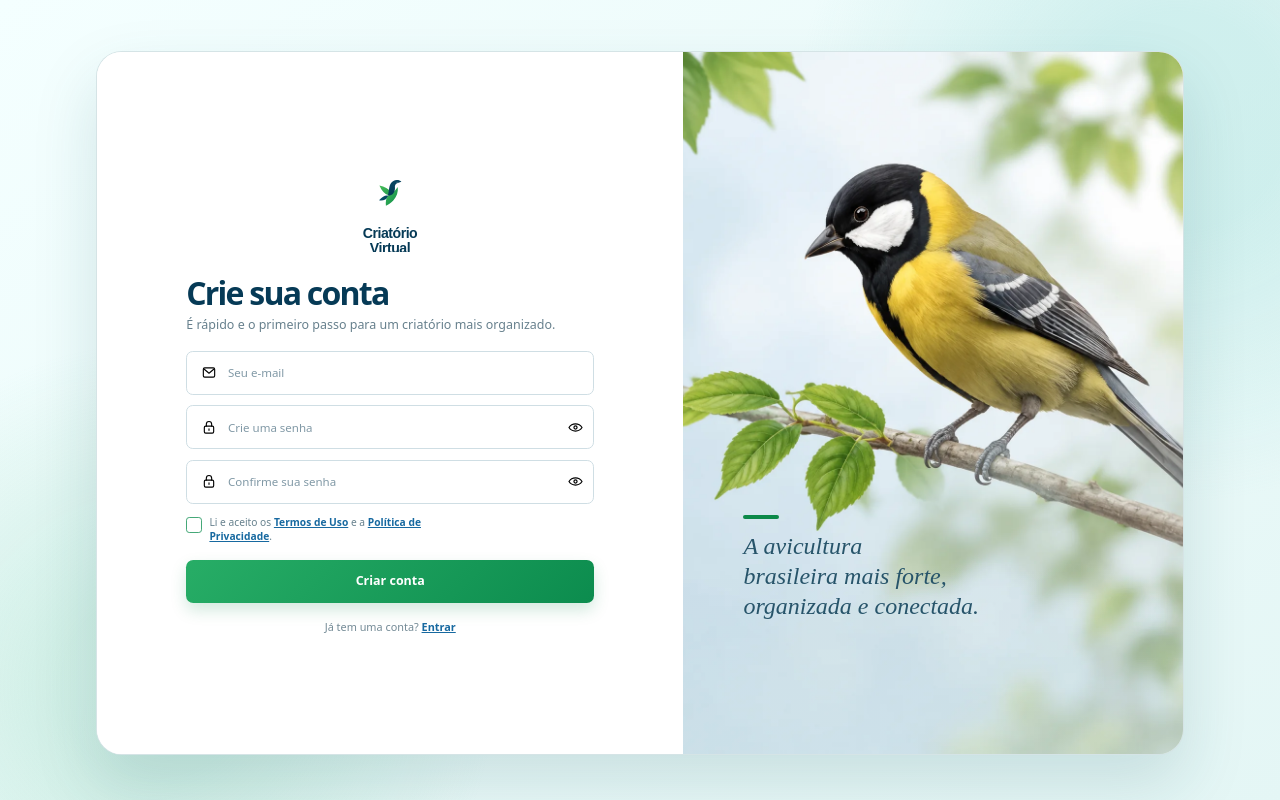
it: RegistrationPage › registers with the API contract and shows the confirmation navigation
The width and height of the screenshot is (1280, 800).
In the field labelled "e-mail": (390, 373) [186,351,594,395], type " owner@example.com "
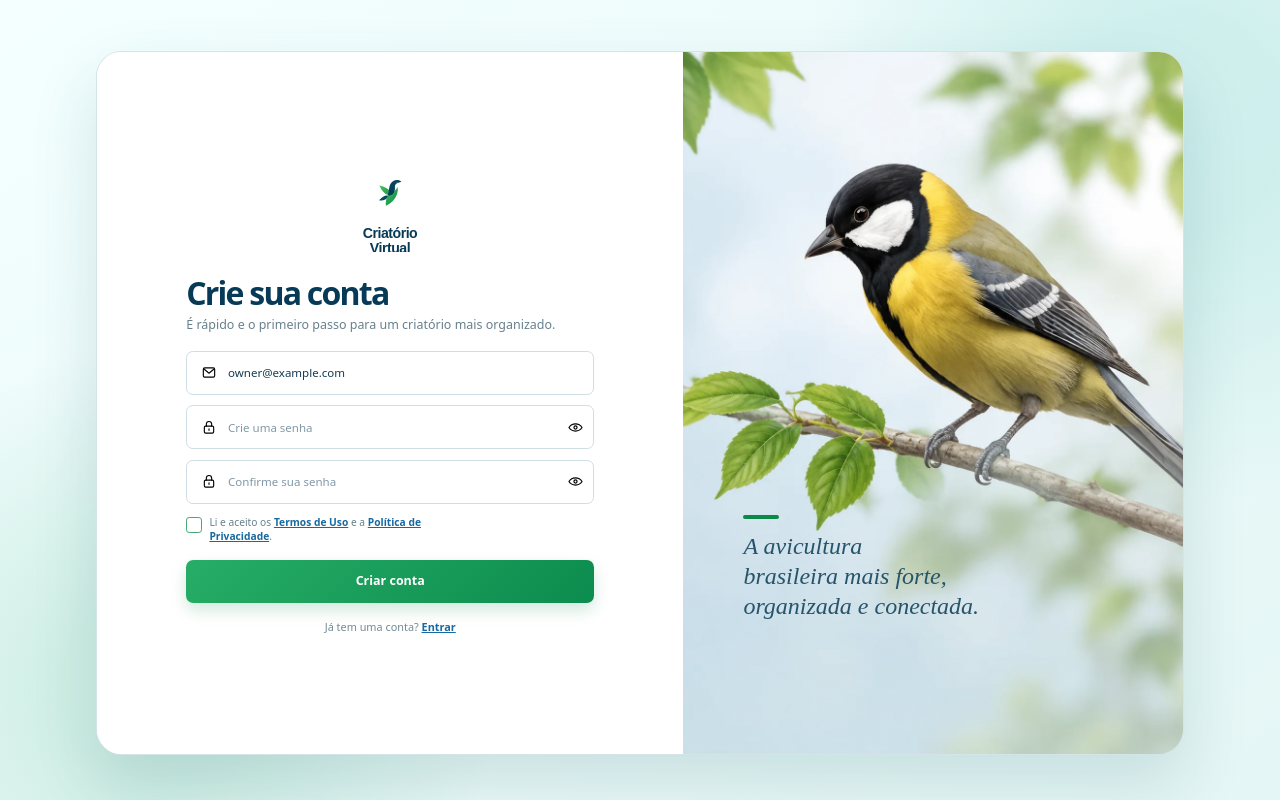
In the password field labelled "senha": (390, 427) [186,405,594,449], type "StrongPassword!123"
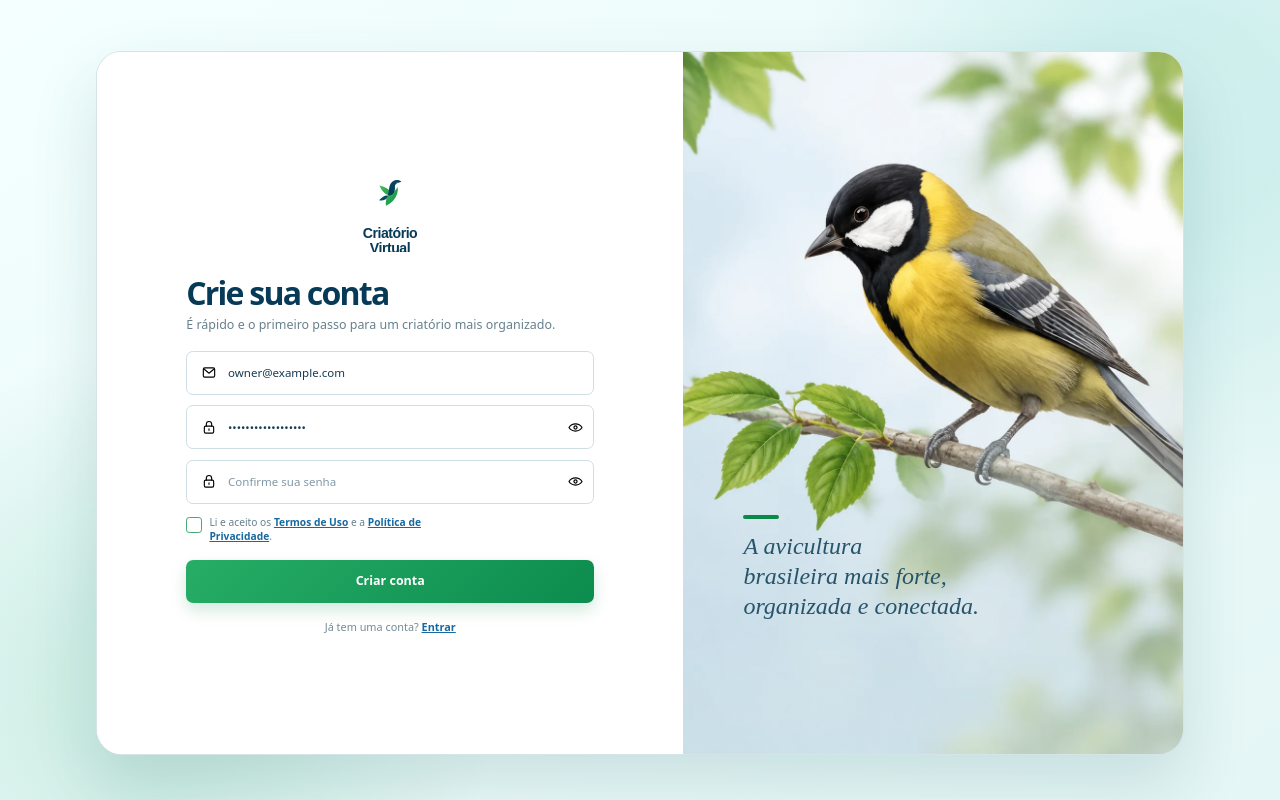
In the password field named "Confirmar senha": (390, 482) [186,460,594,504], type "StrongPassword!123"
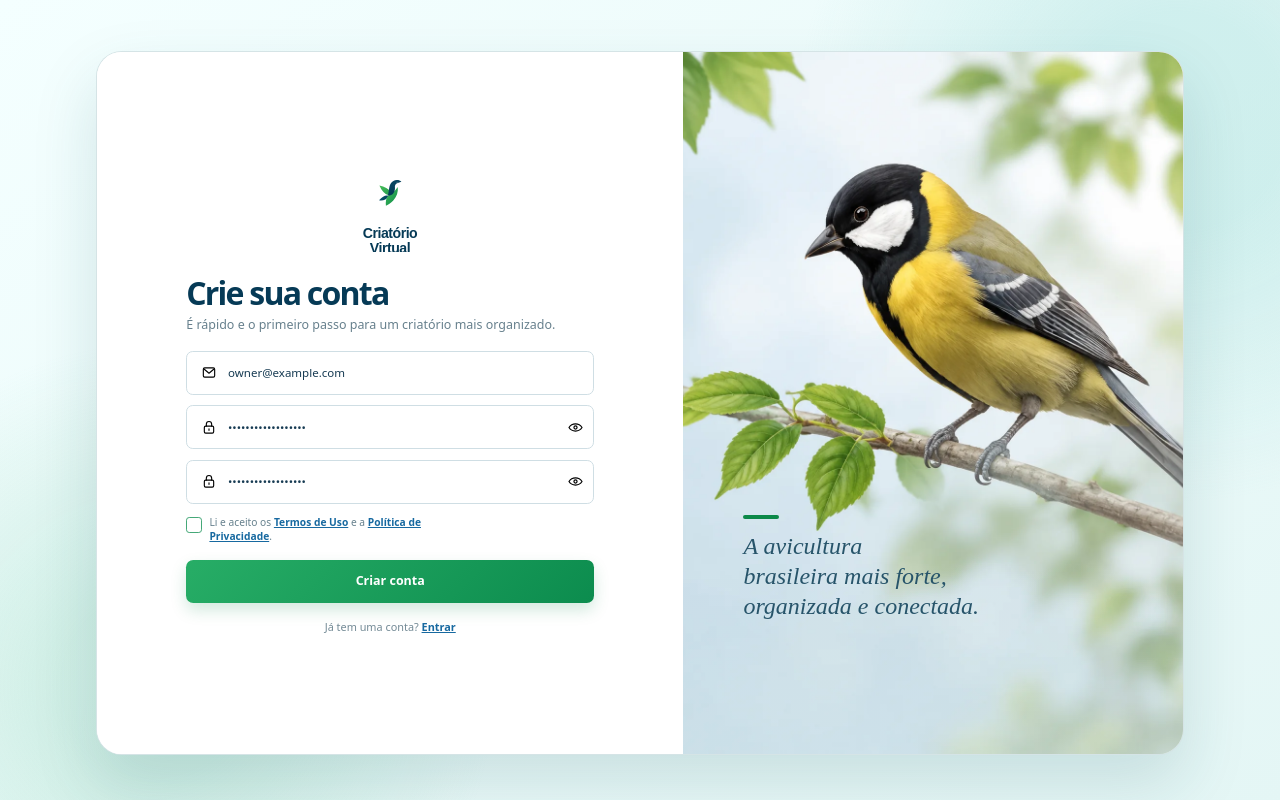
Click the checkbox: (194, 525) [186,517,202,533]
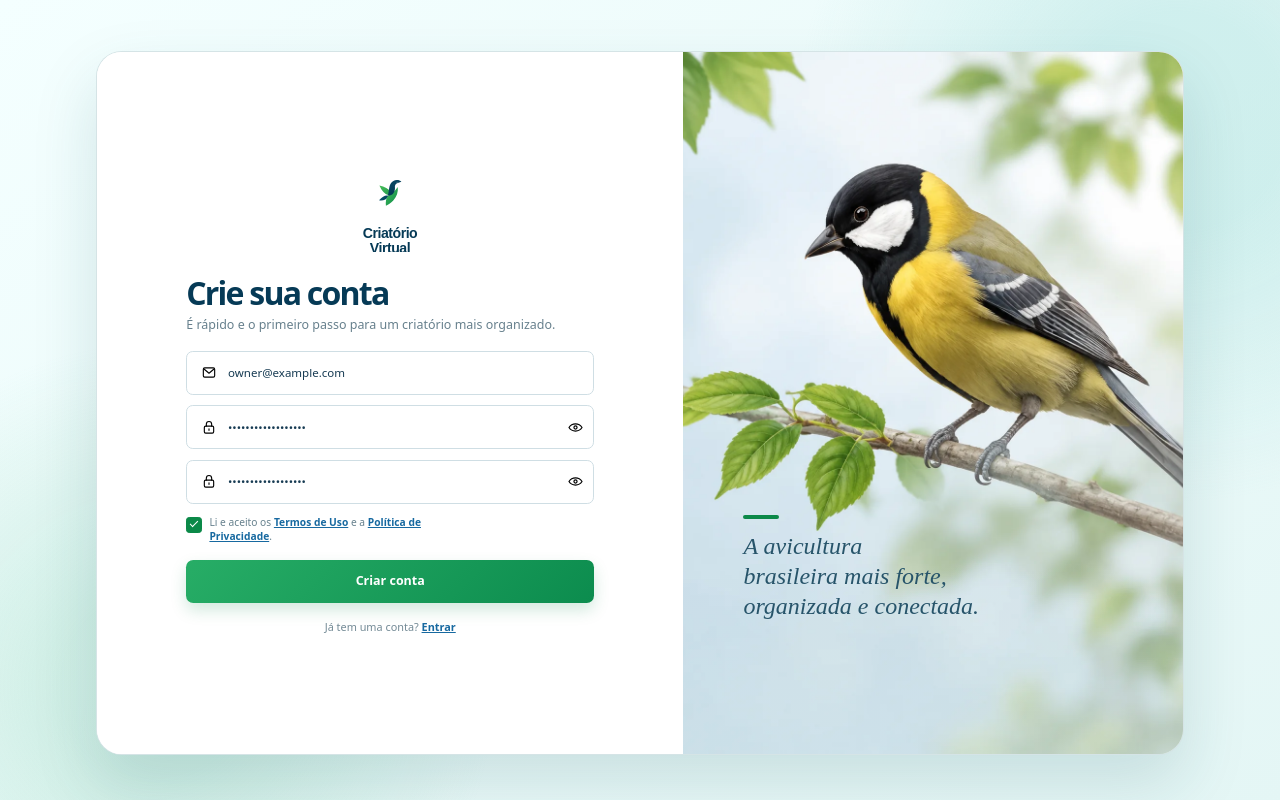
Click the button "Criar conta": (390, 582) [186,560,594,603]
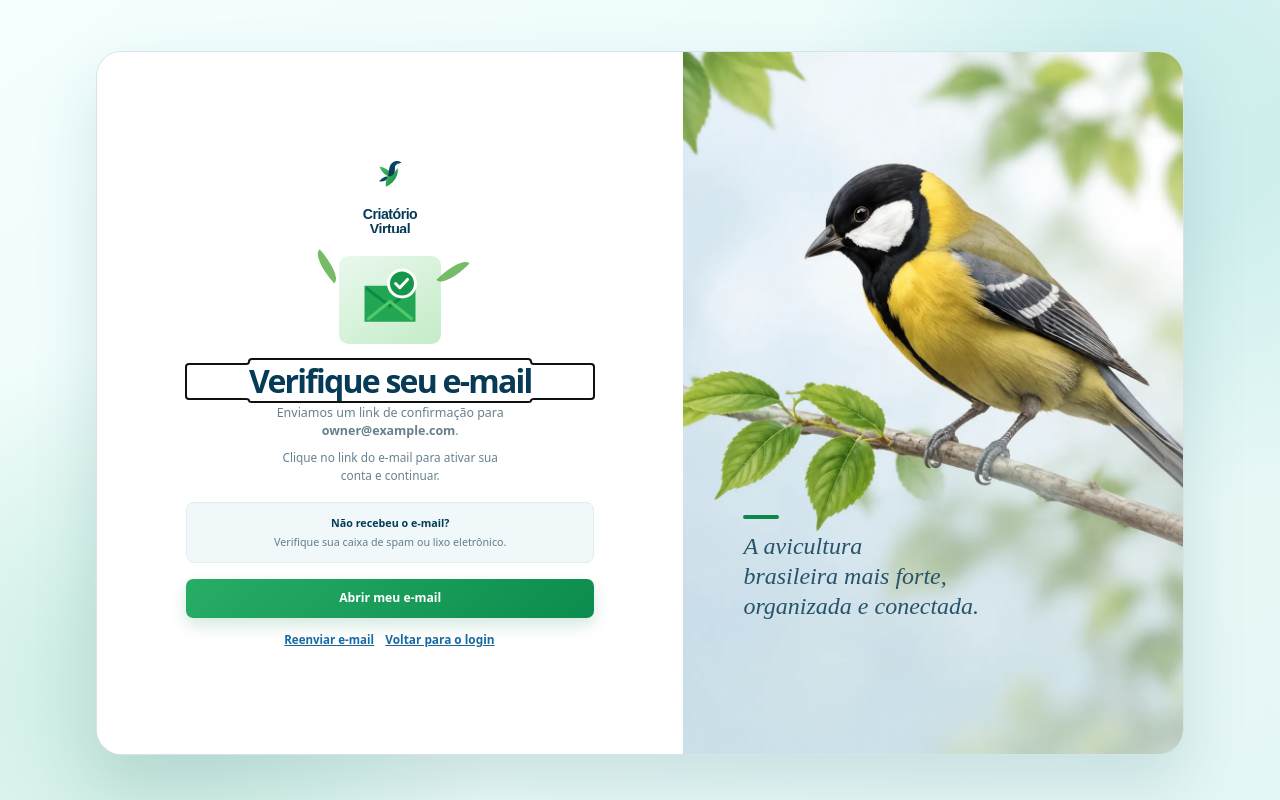
Check: the heading "Verifique seu e-mail" is shown, box [249,359,532,402]
Check: the text "owner@example.com" is shown, box [322,422,455,439]
